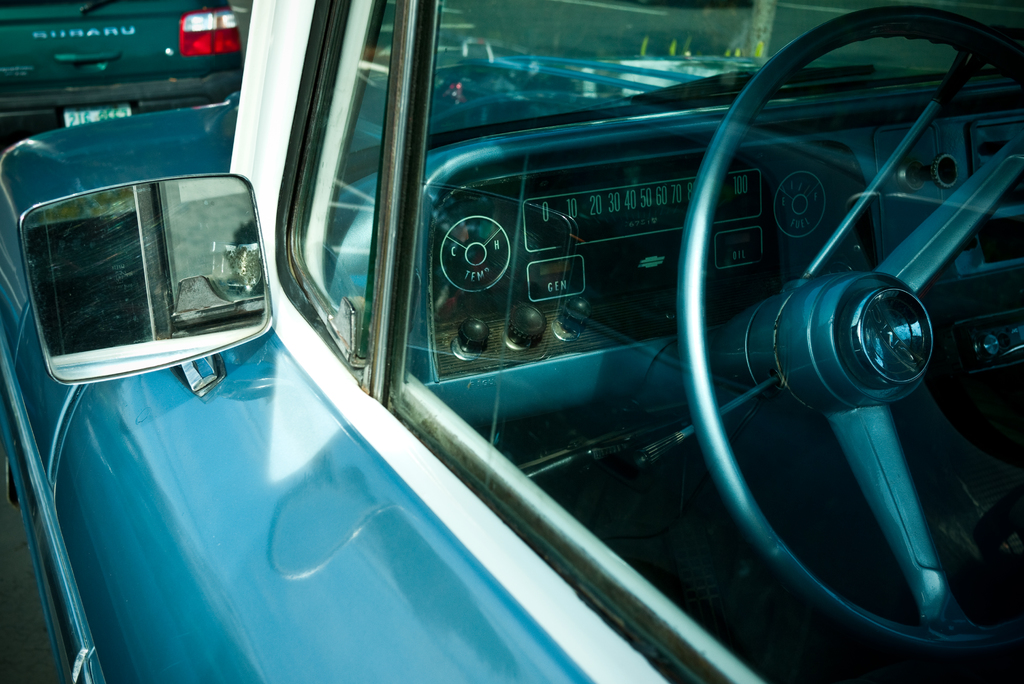Car: (0, 0, 1023, 683), (0, 0, 243, 144)
